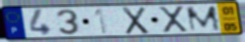1: (94, 8, 108, 34)
3: (55, 8, 80, 36)
4: (29, 8, 53, 38)
M: (184, 5, 223, 33)
X: (157, 5, 190, 34), (121, 6, 151, 36)
